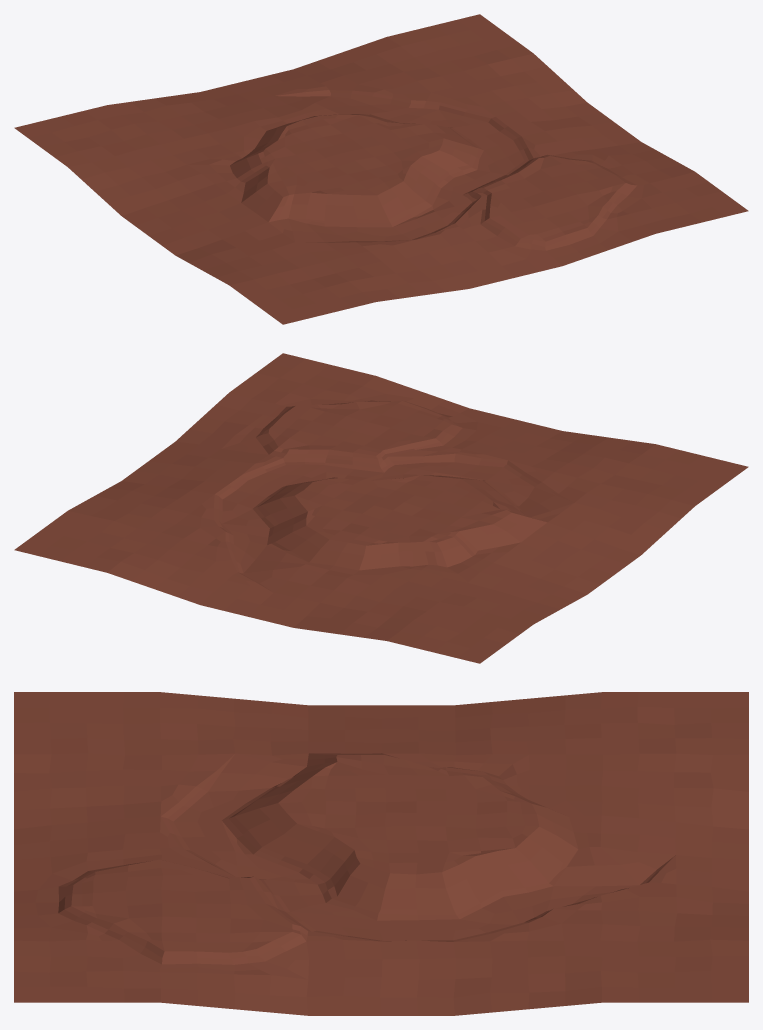
The model's file is Terrain_b_dry.FBX.
3 views of the same model, one above another, from view 1: azimuth 30°, elevation 25°; view 2: azimuth 150°, elevation 25°; view 3: azimuth 270°, elevation 25° (orthographic). The views are drawn at different scales.
Visible parts, largest first — view 1: Terrain_b_dry; view 2: Terrain_b_dry; view 3: Terrain_b_dry.
Part boxes in pixels (x1=…): Terrain_b_dry: x1=14, y1=14, x2=748, y2=324; Terrain_b_dry: x1=14, y1=353, x2=748, y2=663; Terrain_b_dry: x1=14, y1=692, x2=748, y2=1015.
Bounding box in the file's own units: 100 × 4.85 × 100.
